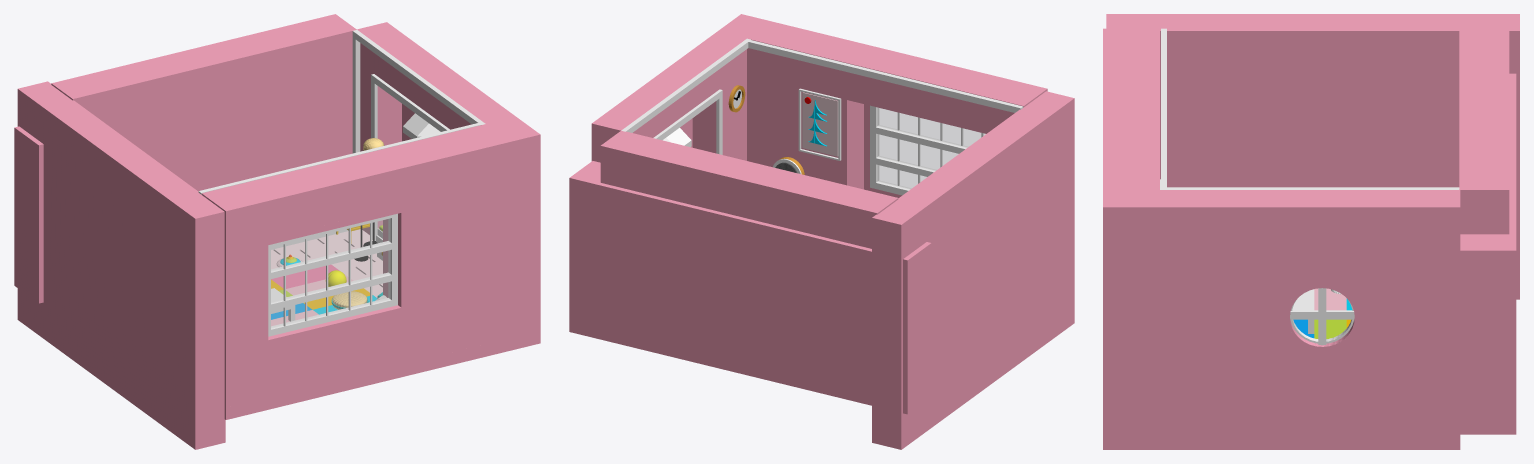
File: ÇocukOda.fbx
3 renders of one model, left to right at view 1: azimuth 30°, elevation 25°; view 2: azimuth 150°, elevation 25°; view 3: azimuth 270°, elevation 25°, orthographic. The views are drawn at different scales.
Visible parts, largest first — view 1: box.373; view 2: box.373; view 3: box.373.
Boxes of the visible parts, <box> form: box.373: <box>14,14,540,449</box>; box.373: <box>569,14,1074,449</box>; box.373: <box>1103,14,1519,449</box>.
Bounding box in the file's own units: 5763 × 3676 × 5133.
